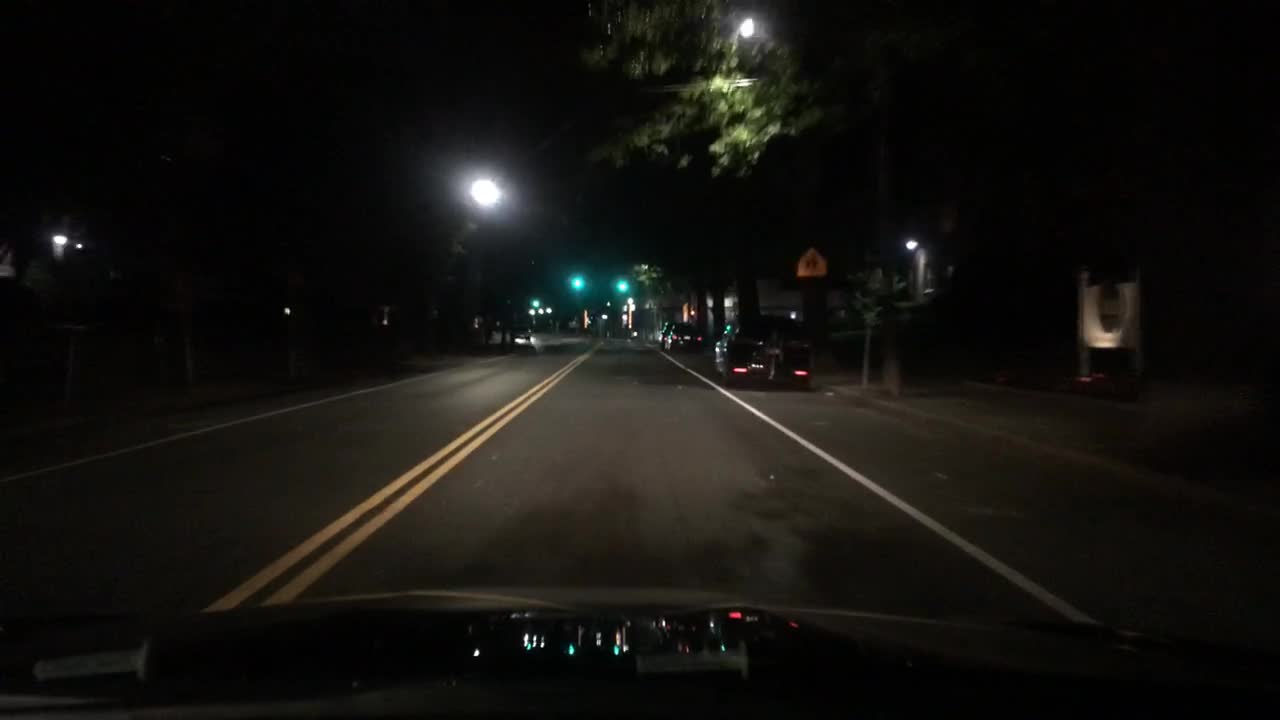car: (711, 313, 816, 390), (666, 321, 703, 356), (657, 319, 678, 348), (511, 325, 532, 341)
traffic light: (613, 275, 626, 294), (571, 269, 581, 289), (531, 295, 537, 306)
traffic sign: (796, 247, 827, 280)
